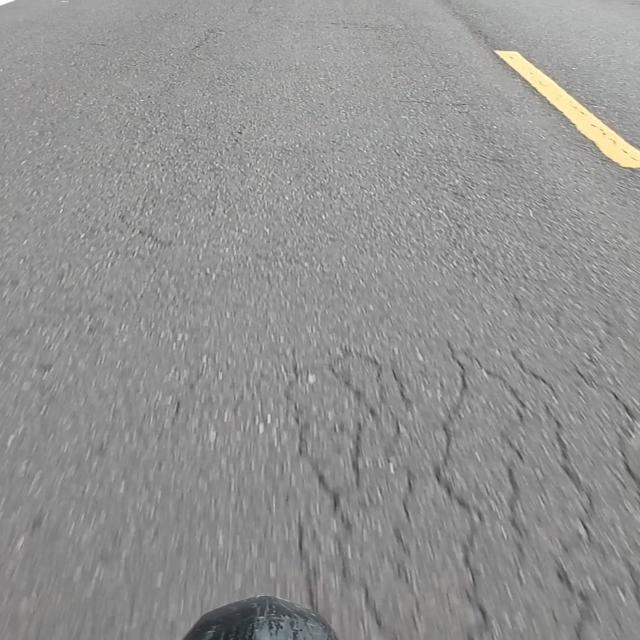Retak Buaya: (300, 350, 640, 640)
